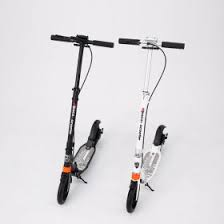kick_handler: (51, 32, 115, 52), (117, 34, 184, 52)
kick_wheel: (59, 176, 73, 204), (127, 187, 141, 214)
